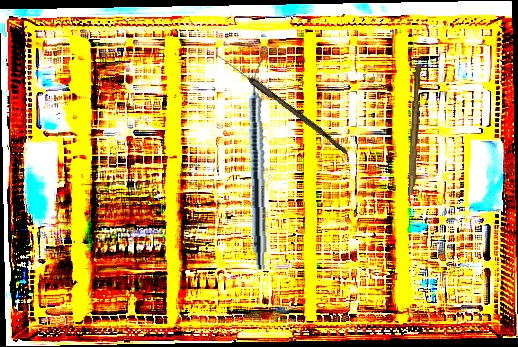Handpiece: (245, 58, 272, 271)
Scalpel Handle: (408, 63, 422, 196)
Surgical Spoon: (213, 51, 351, 155)
